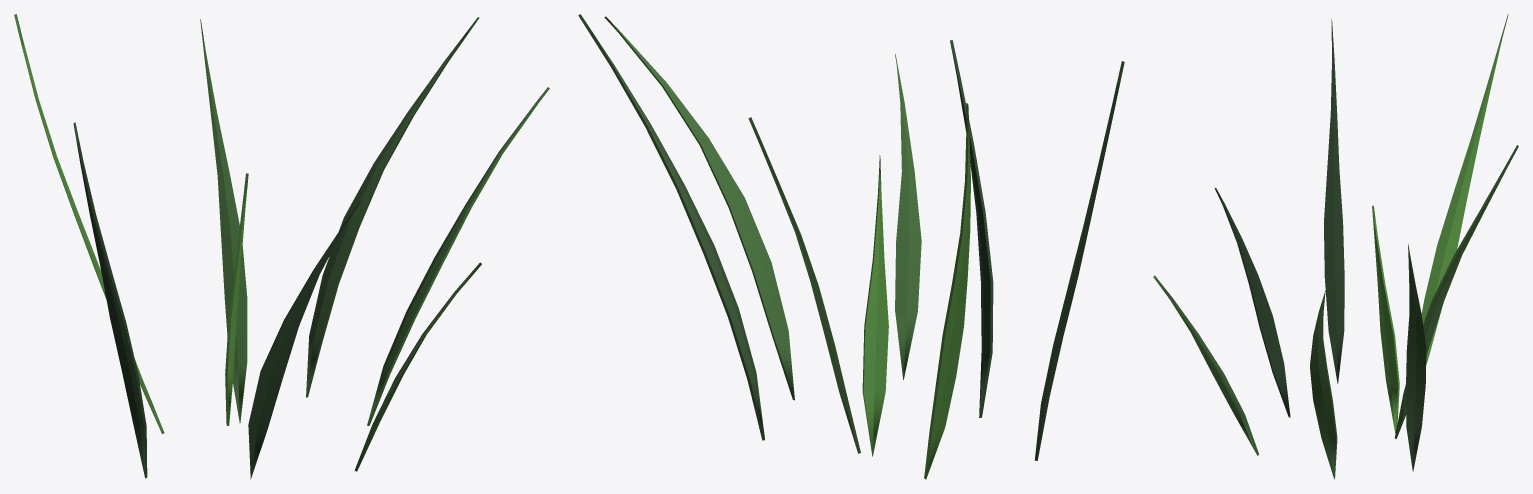
The model's file is Grass2.FBX.
The picture shows the model from 3 angles, left to right: view 1: azimuth 30°, elevation 25°; view 2: azimuth 150°, elevation 25°; view 3: azimuth 270°, elevation 25°; orthographic projection. The views are drawn at different scales.
Visible parts, largest first — view 1: Grass; view 2: Grass; view 3: Grass.
Boxes of the visible parts, box(x1,y1,x2,y2) form: Grass: box(14, 14, 549, 479); Grass: box(578, 14, 1124, 479); Grass: box(1153, 14, 1518, 479).
Bounding box in the file's own units: 157 × 128 × 119.
